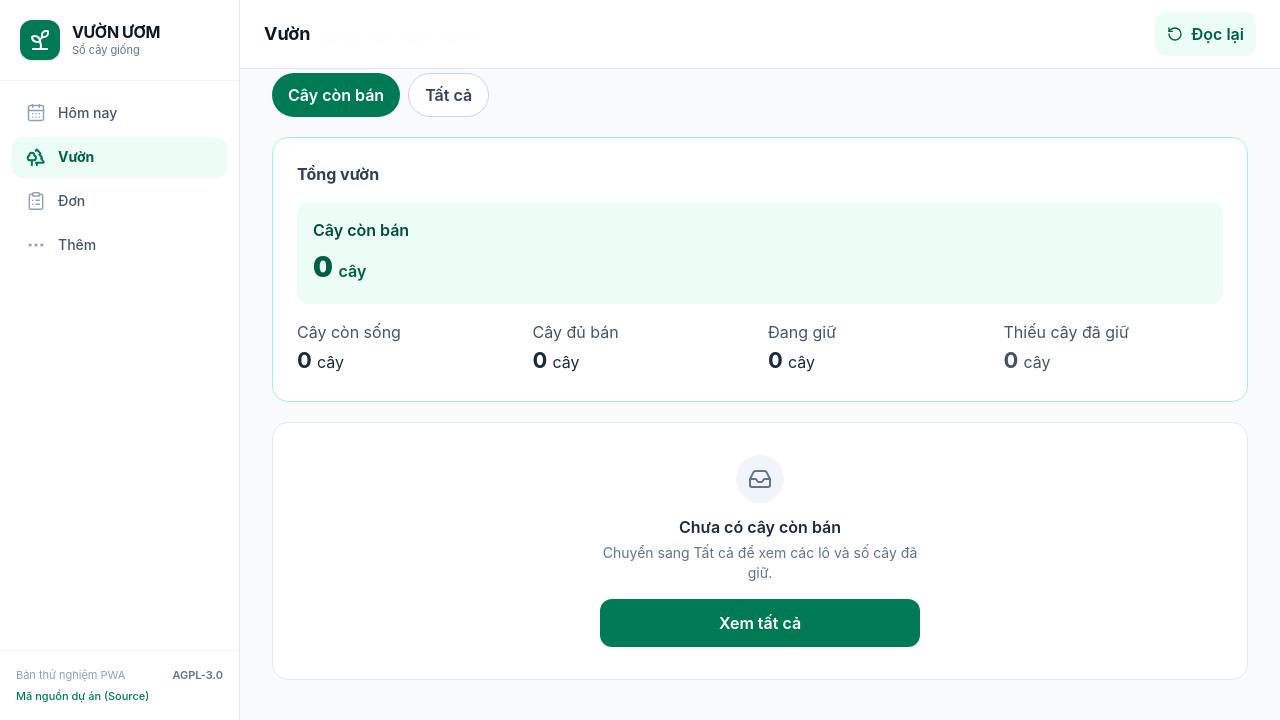
Test: Garden availability UI (real Dexie) › distinguishes zero-stock existing batches from an empty garden; all shows the batch
(page scrolled)
Expected: the heading "Chưa có cây còn bán" is shown, [679,515,841,539]
Click the button "Xem tất cả" at [760, 623], box [600,599,920,647]
(page scrolled)
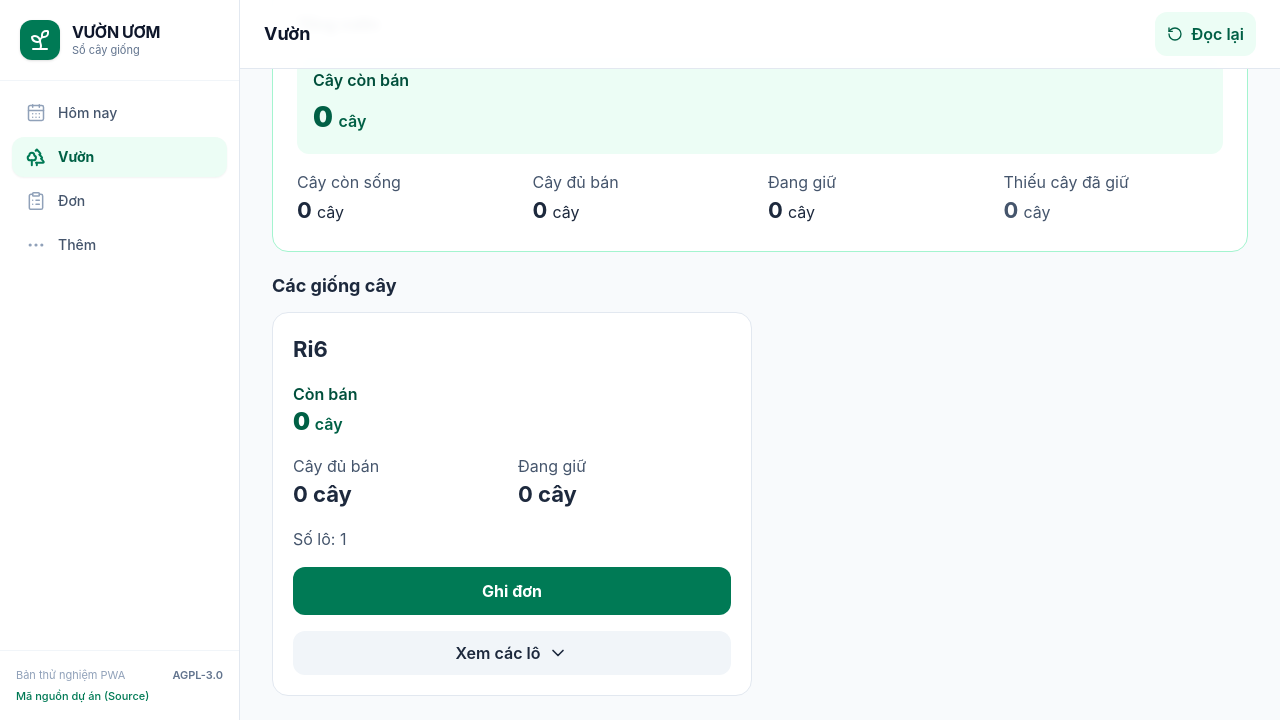
Expected: the element "Ri6" is shown, [272,312,752,696]
Click the button "Xem các lô" at [512, 653], box [293,631,731,675]
(page scrolled)
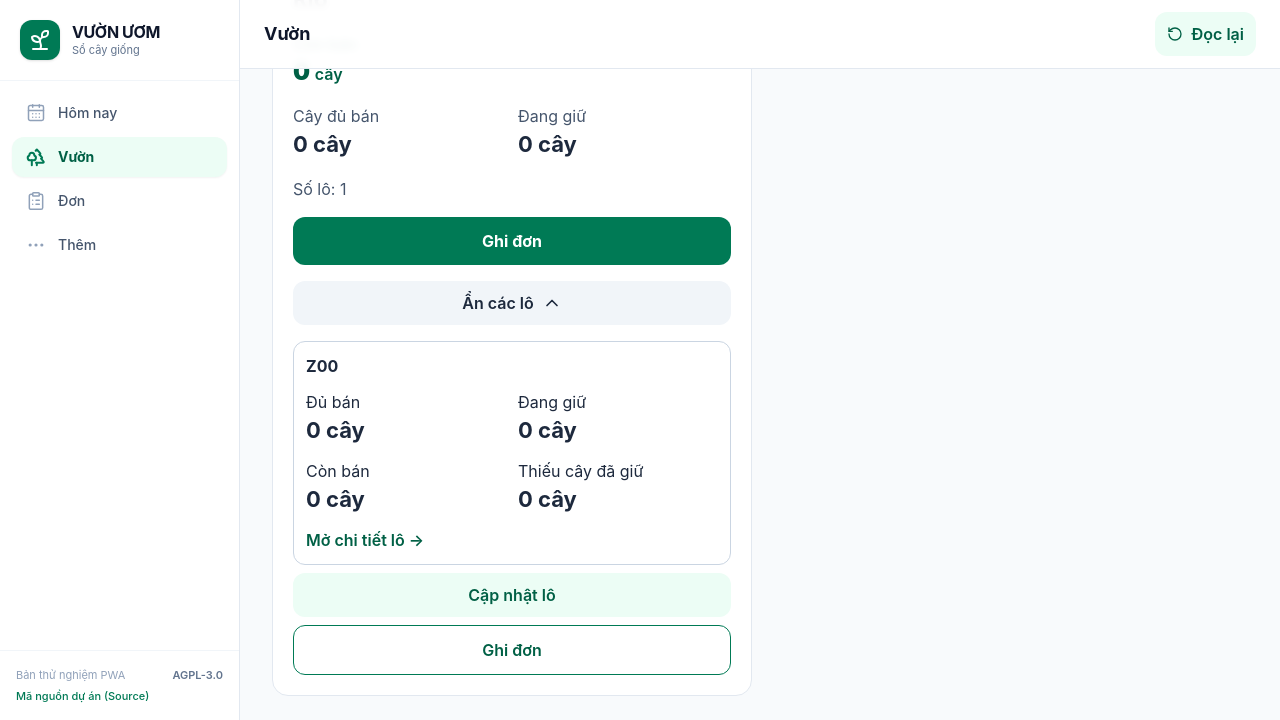
Expected: the link with aria-label "Mở lô Z00" is shown, [293,341,731,565]
